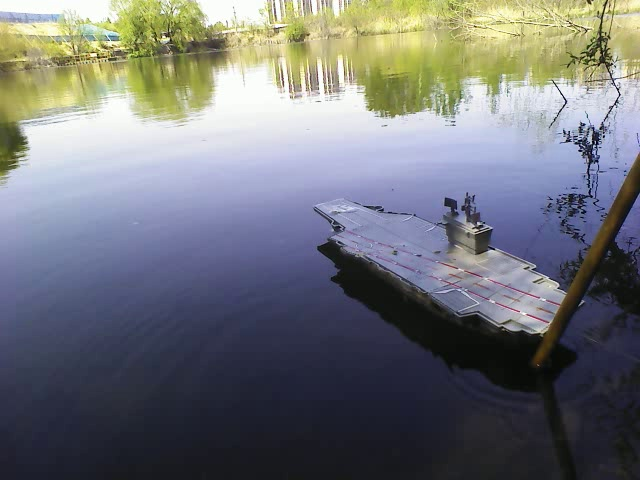aircraft_carrier: (309, 189, 587, 342)
